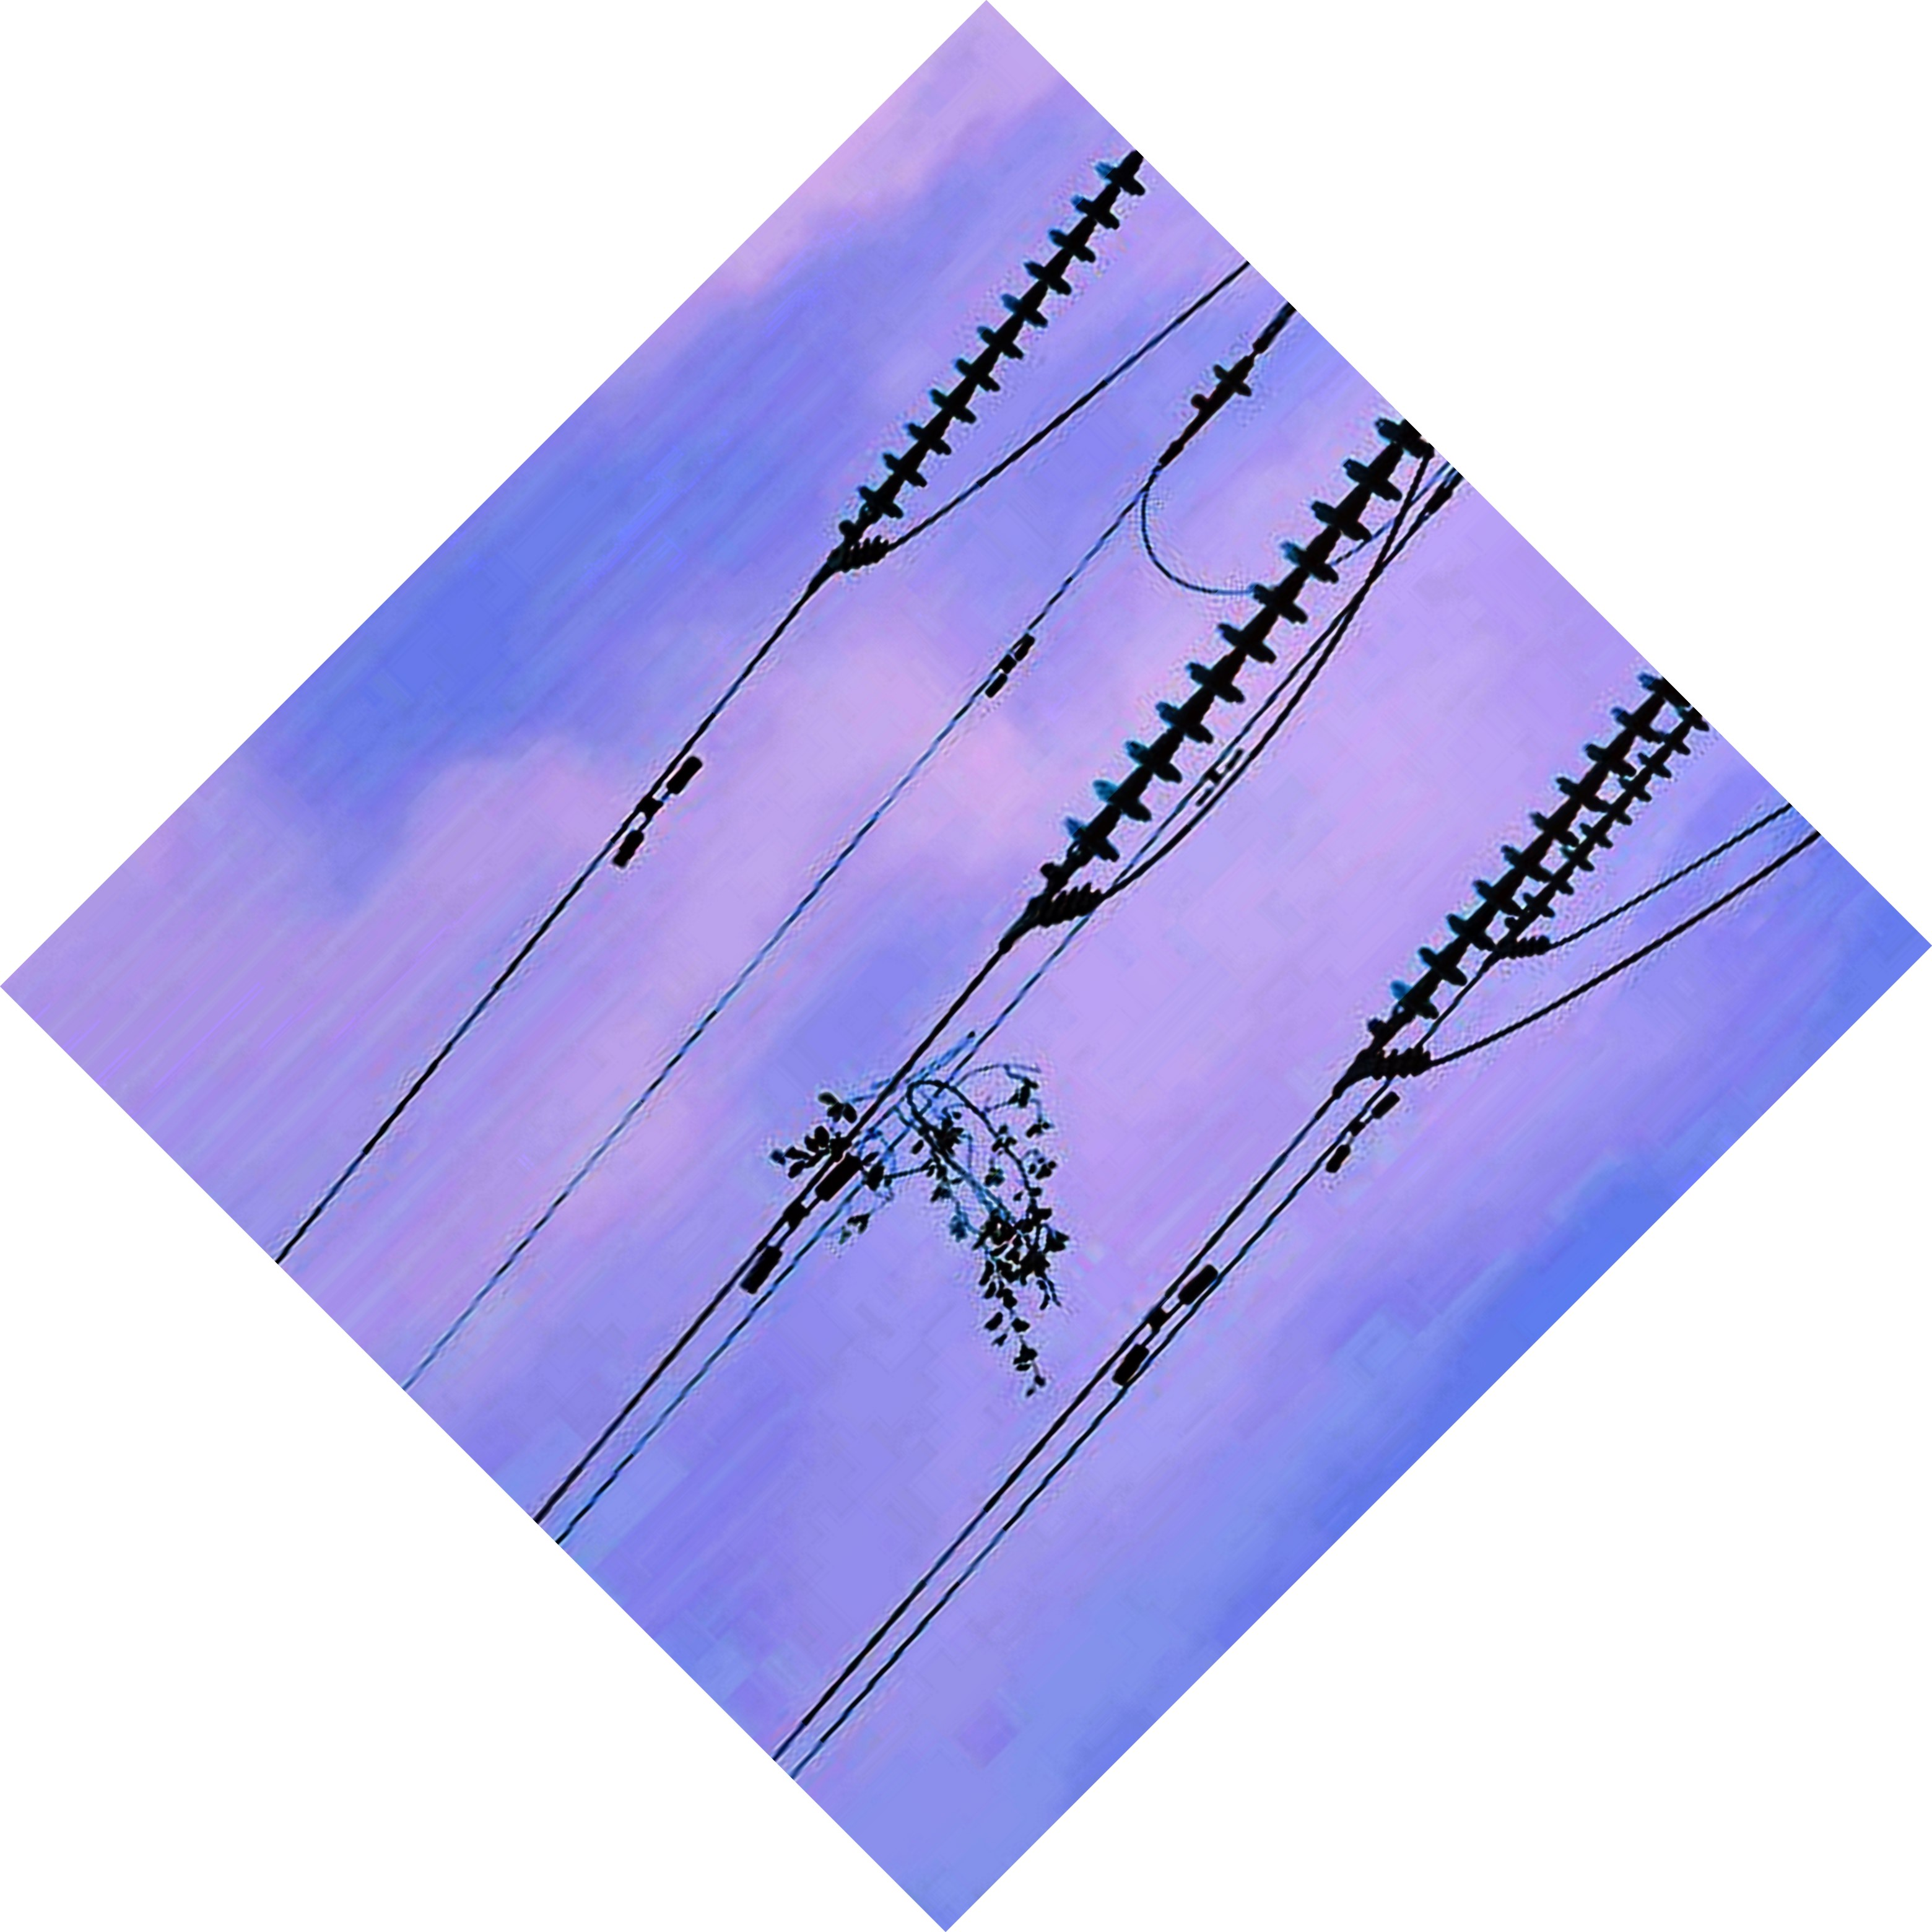wire foreign body: (798, 1033, 1115, 1387)
